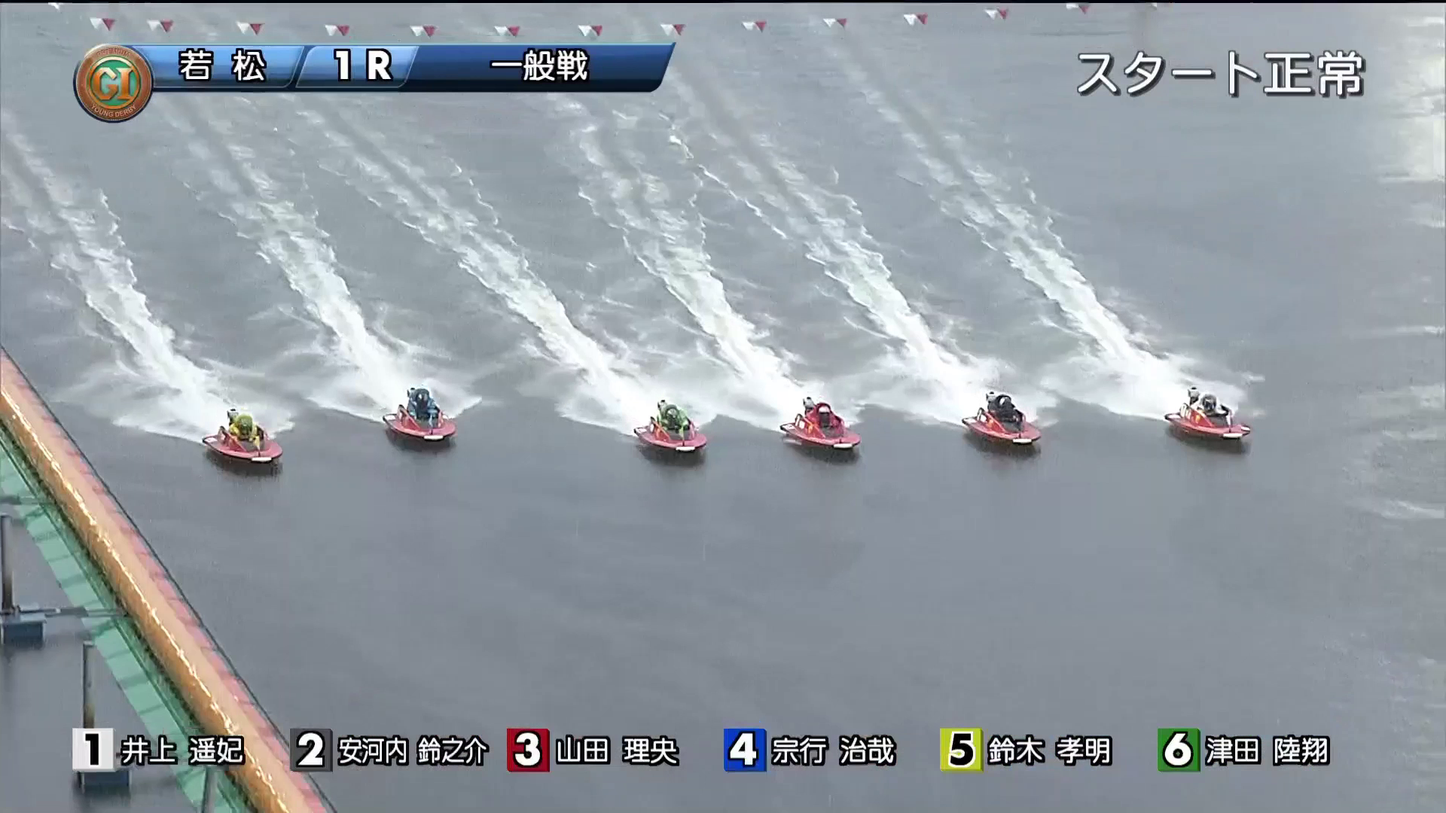１号艇: (1182, 413, 1258, 453)
２号艇: (734, 338, 824, 376)
３号艇: (698, 369, 789, 410)
４号艇: (667, 398, 772, 441)
５号艇: (572, 433, 693, 488)
６号艇: (617, 478, 717, 535)
